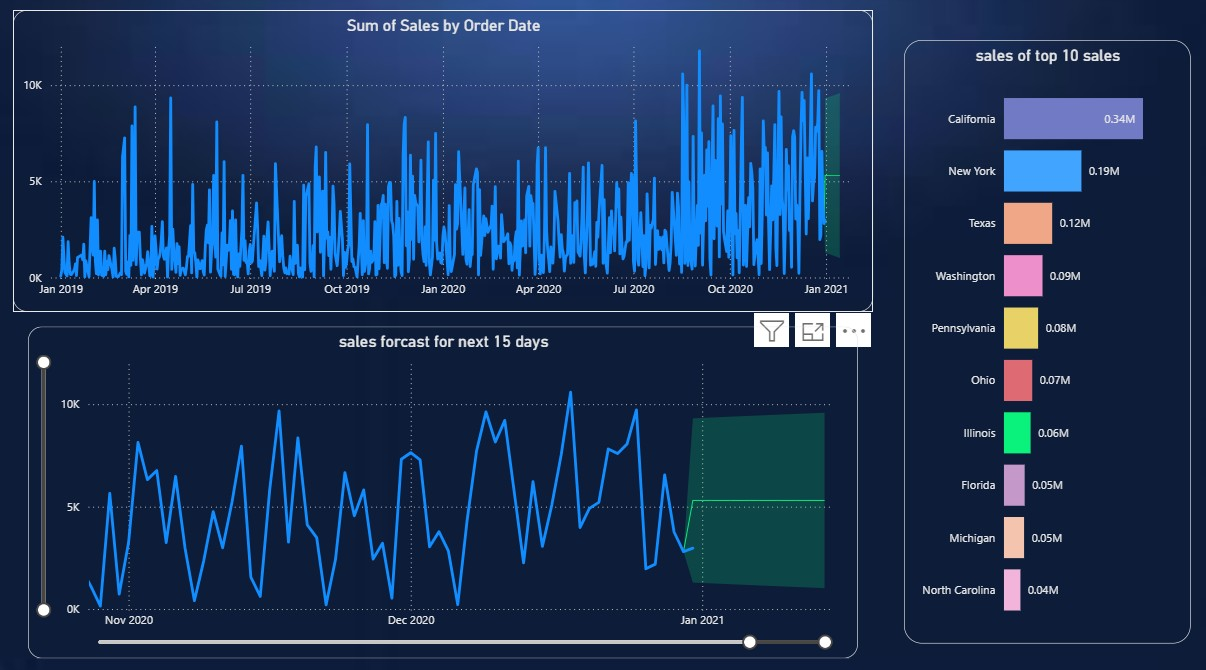

Layout of this report page (visuals, bound fields, positions):
{"tool":"powerbi","page":{"name":"Page 2","canvas":[1280,720],"ordinal":1},"visuals":[{"type":"lineChart","fields":{"Y":["Sum(SuperStore_Sales_Dataset.Sales)"],"Category":["SuperStore_Sales_Dataset.Order Date"]},"box":[16,16,912,320],"z":0},{"type":"lineChart","title":"sales forcast for next 15 days","fields":{"Y":["Sum(SuperStore_Sales_Dataset.Sales)"],"Category":["SuperStore_Sales_Dataset.Order Date"]},"box":[32,352,880,352],"z":1},{"type":"clusteredBarChart","title":"sales of top 10 sales","fields":{"Y":["Sum(SuperStore_Sales_Dataset.Sales)"],"Category":["SuperStore_Sales_Dataset.State"]},"box":[960,48,304,640],"z":2}]}

Visuals, with their boxes in screenshot pixels (x1, y1, x2, y2), scaled from the page's 1280x720 canvas onto the 1206x670 screenshot:
lineChart - Sum(SuperStore_Sales_Dataset.Sales) x SuperStore_Sales_Dataset.Order Date: 15,15,874,313
"sales forcast for next 15 days" lineChart: 30,328,859,655
"sales of top 10 sales" clusteredBarChart: 904,45,1191,640
